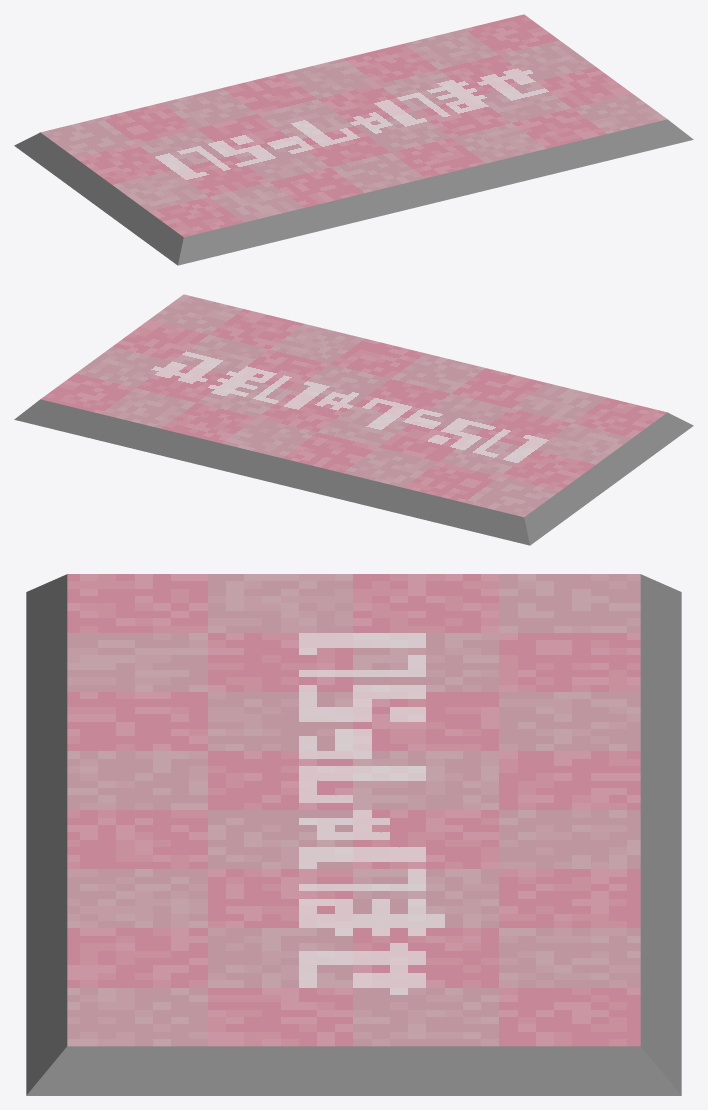
The model's file is 001b_Welcome_Mat.glb.
The picture shows the model from 3 angles, top to bottom: view 1: azimuth 30°, elevation 25°; view 2: azimuth 150°, elevation 25°; view 3: azimuth 270°, elevation 25°; orthographic projection. The views are drawn at different scales.
Visible parts, largest first — view 1: part_0; view 2: part_0; view 3: part_0.
Boxes of the visible parts, box(x1,y1,x2,y2) form: part_0: box(14, 14, 693, 265); part_0: box(14, 294, 693, 545); part_0: box(26, 574, 681, 1095).
Bounding box in the file's own units: 0.8 × 0.025 × 0.44.
Materials: 1 (1 with a texture image).
